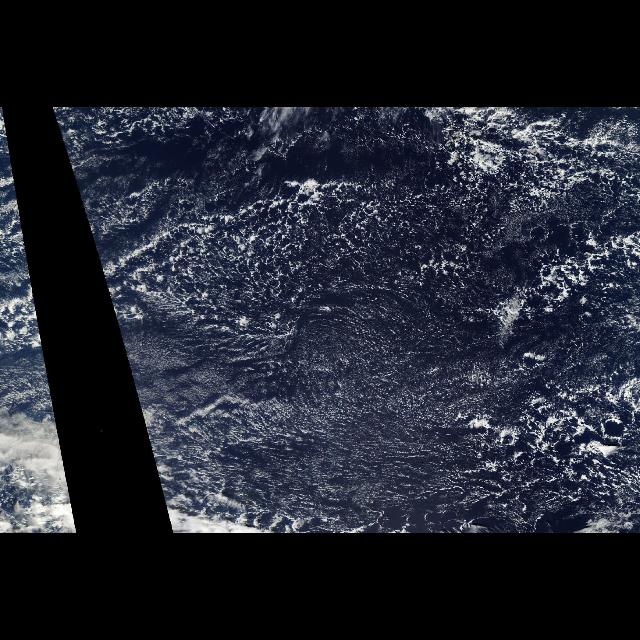Gravel: (178, 182, 640, 314), (479, 340, 639, 510)
Sugar: (97, 114, 638, 528)
